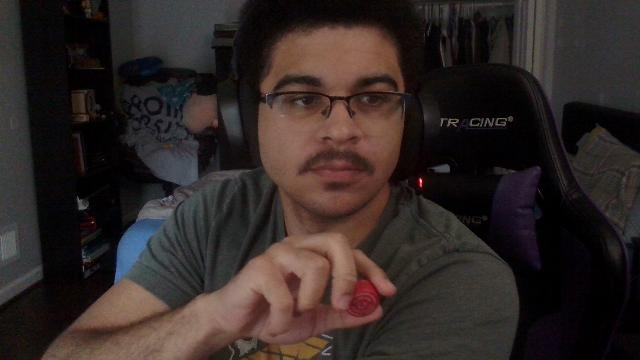cap: (347, 279, 379, 317)
